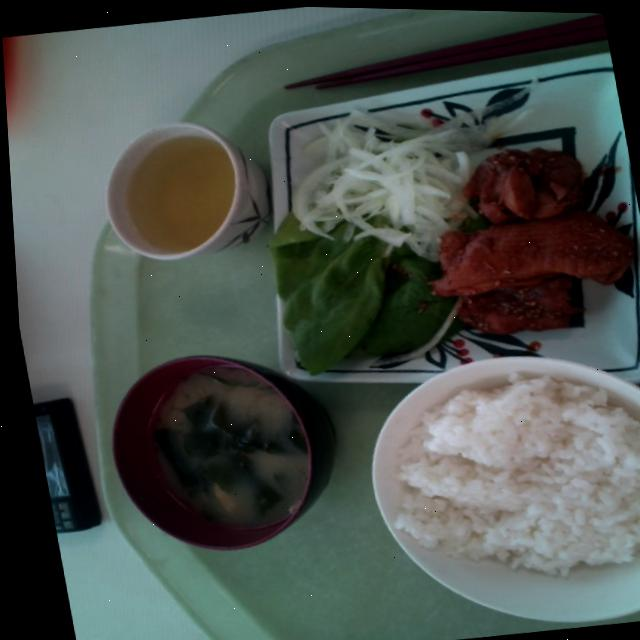汤锅炖物: (75, 343, 338, 585)
米饭主食: (316, 325, 640, 640)
蔬菜料理: (229, 60, 485, 372)
